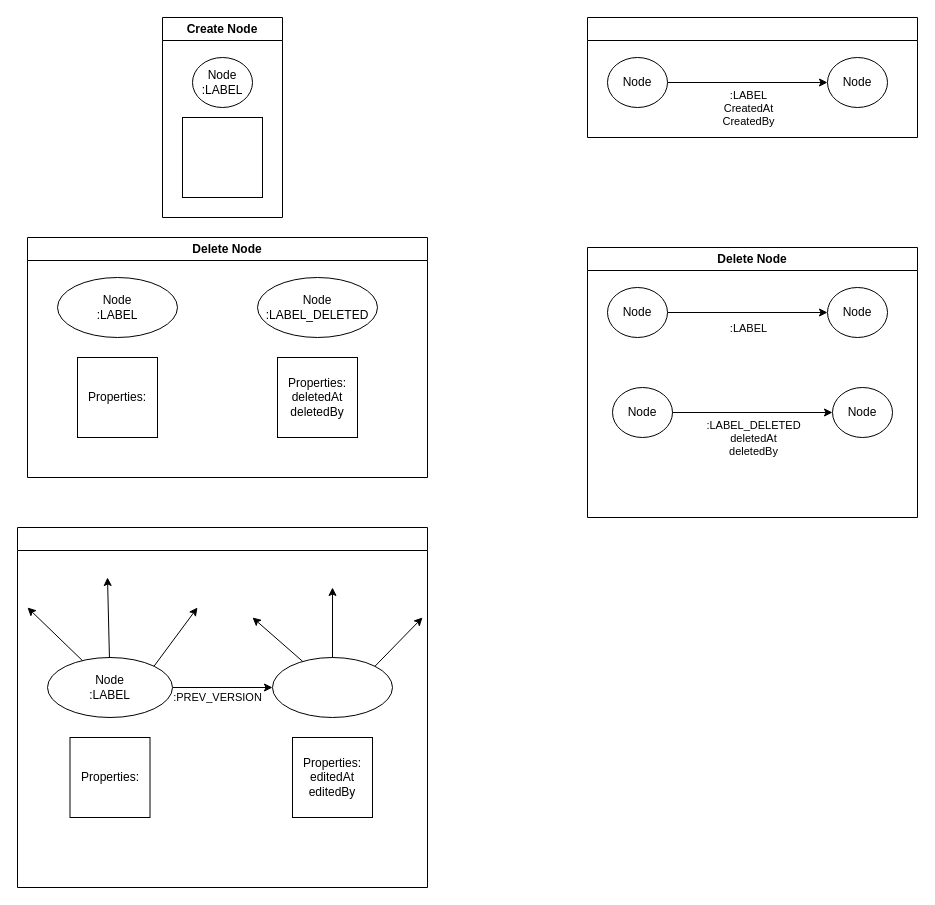
Image size: 935x905. Some labels were removed from this diagram. Each missing label, with the box of its shape:
Create Relationship: (586, 16, 918, 138)
Edit Node: (16, 526, 428, 888)
Node :LABEL_VERSION: (272, 656, 392, 718)
Properties: createdAt createdBy: (182, 116, 262, 198)
